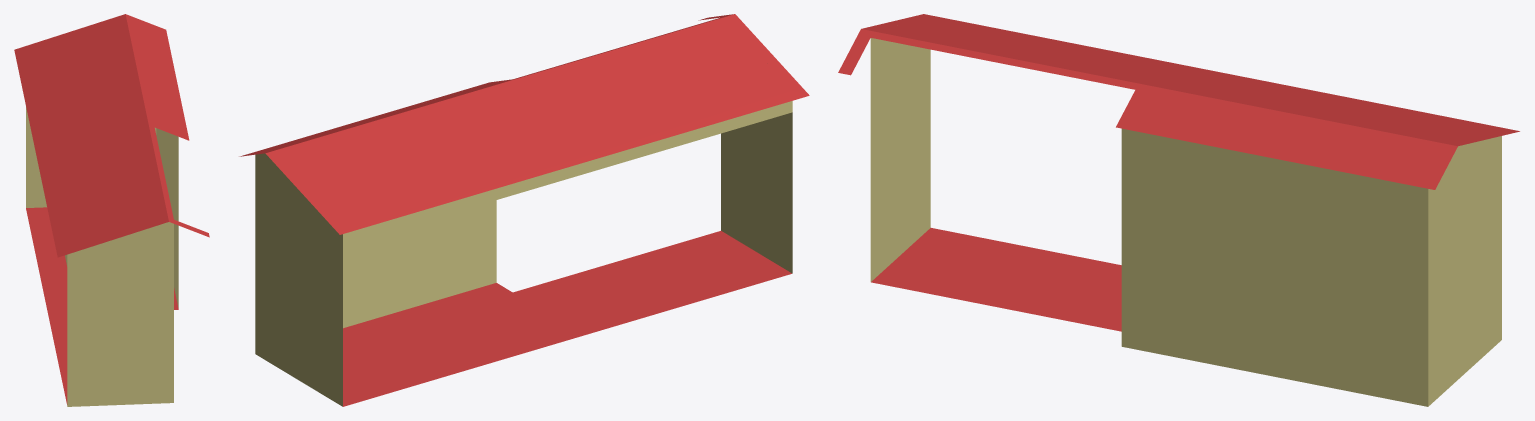
3 renders of one model, left to right at view 1: azimuth 30°, elevation 25°; view 2: azimuth 150°, elevation 25°; view 3: azimuth 270°, elevation 25°, orthographic. The views are drawn at different scales.
Bounding box in the file's own units: 16.12 × 23.81 × 9.54.
